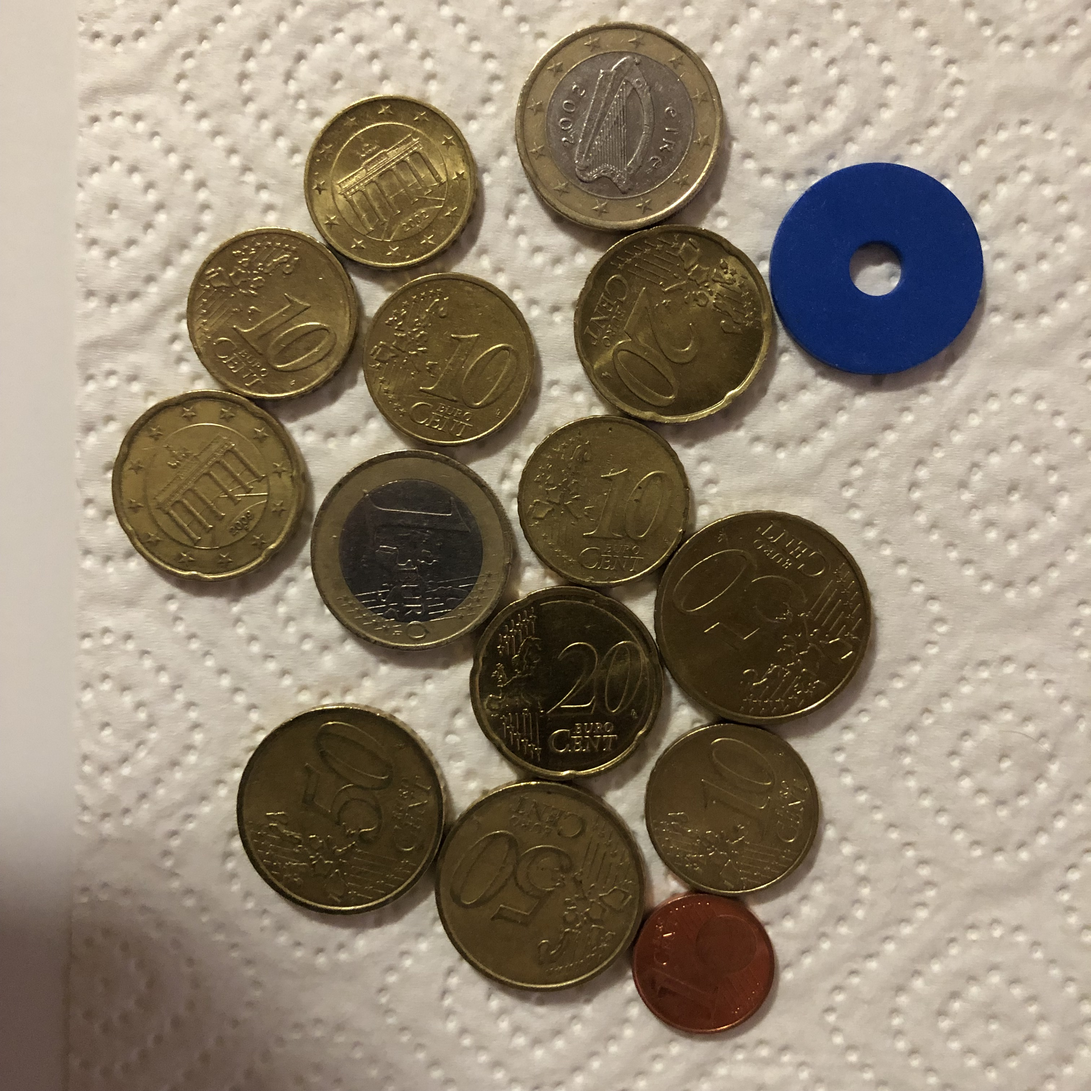1 cent: (630, 887, 773, 1038)
1 euro: (510, 20, 726, 230), (310, 451, 514, 656)
10 cent: (302, 88, 482, 272), (512, 413, 691, 589), (359, 273, 537, 449), (642, 719, 820, 895), (186, 226, 357, 402)
20 cent: (572, 226, 775, 426), (113, 390, 309, 582), (468, 587, 663, 778)
50 cent: (429, 780, 651, 995), (230, 703, 453, 917), (652, 507, 874, 721)
